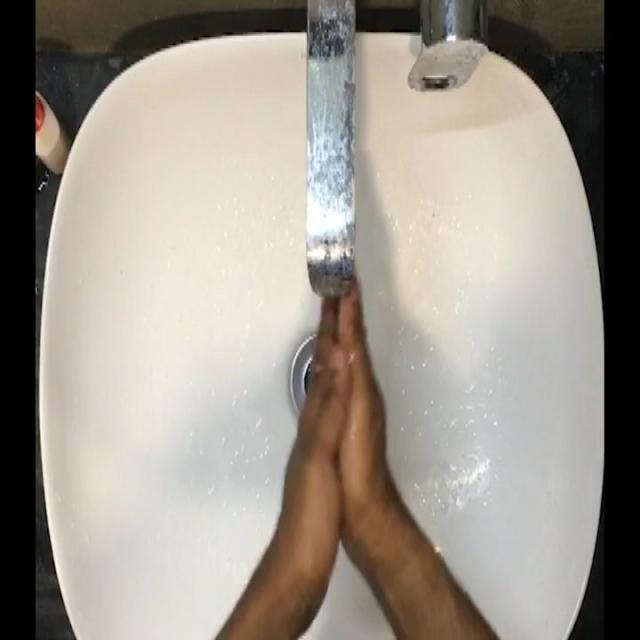step_1: (282, 245, 394, 547)
